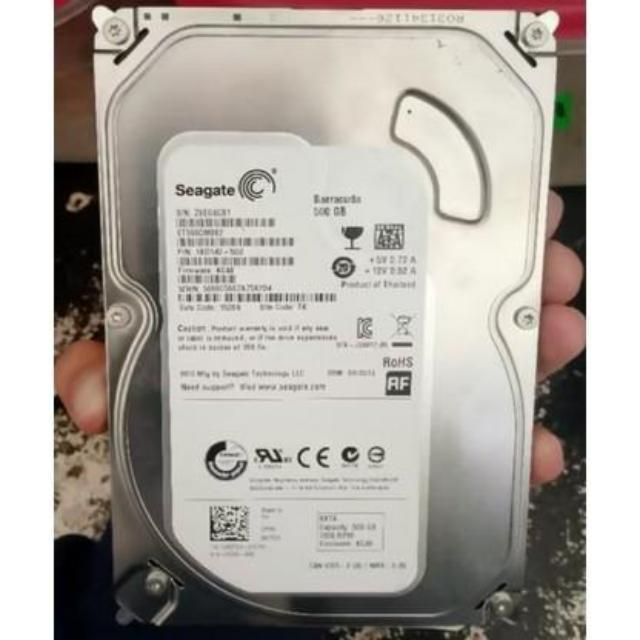DISK: (83, 0, 537, 640)
